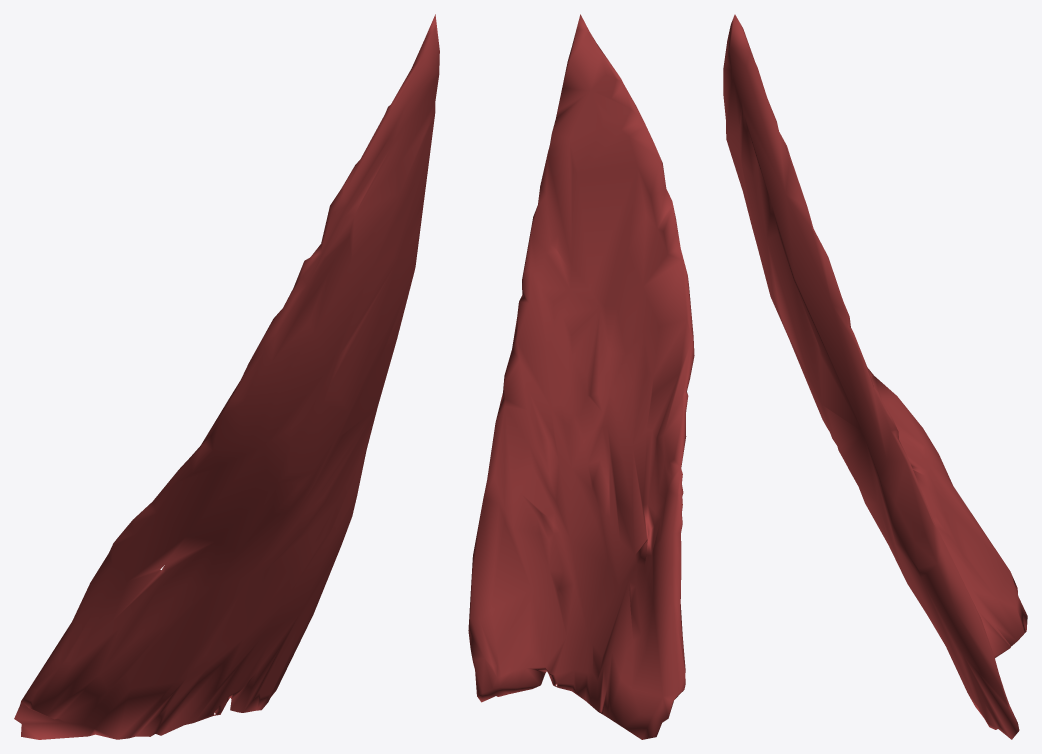
The model's file is pyramidalis-muscle-r.glb.
The picture shows the model from 3 angles, left to right: view 1: azimuth 30°, elevation 25°; view 2: azimuth 150°, elevation 25°; view 3: azimuth 270°, elevation 25°; orthographic projection. The views are drawn at different scales.
Parts seen in each view (by area): view 1: Pyramidalis muscle.r; view 2: Pyramidalis muscle.r; view 3: Pyramidalis muscle.r.
Boxes of the visible parts, x1,y1,x2,y2 form: Pyramidalis muscle.r: (14,14,439,739); Pyramidalis muscle.r: (468,14,694,739); Pyramidalis muscle.r: (723,14,1027,739).
Size of the model in its own units: 0.0279 by 0.0717 by 0.0269.
